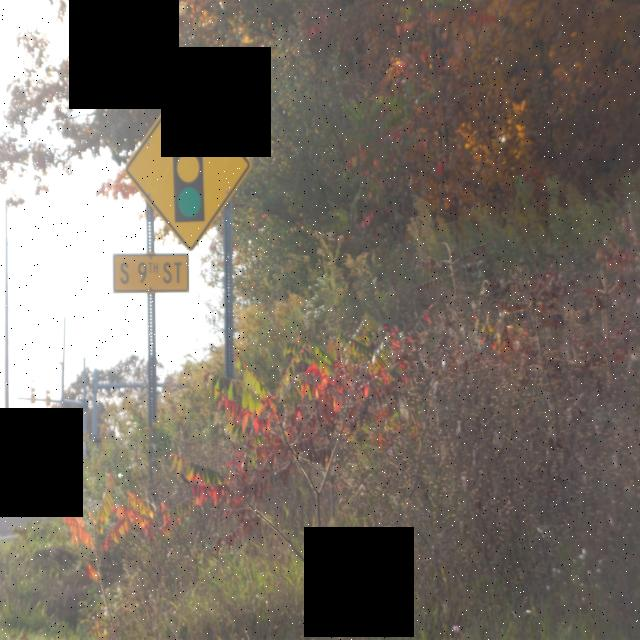warning: (124, 82, 251, 252)
